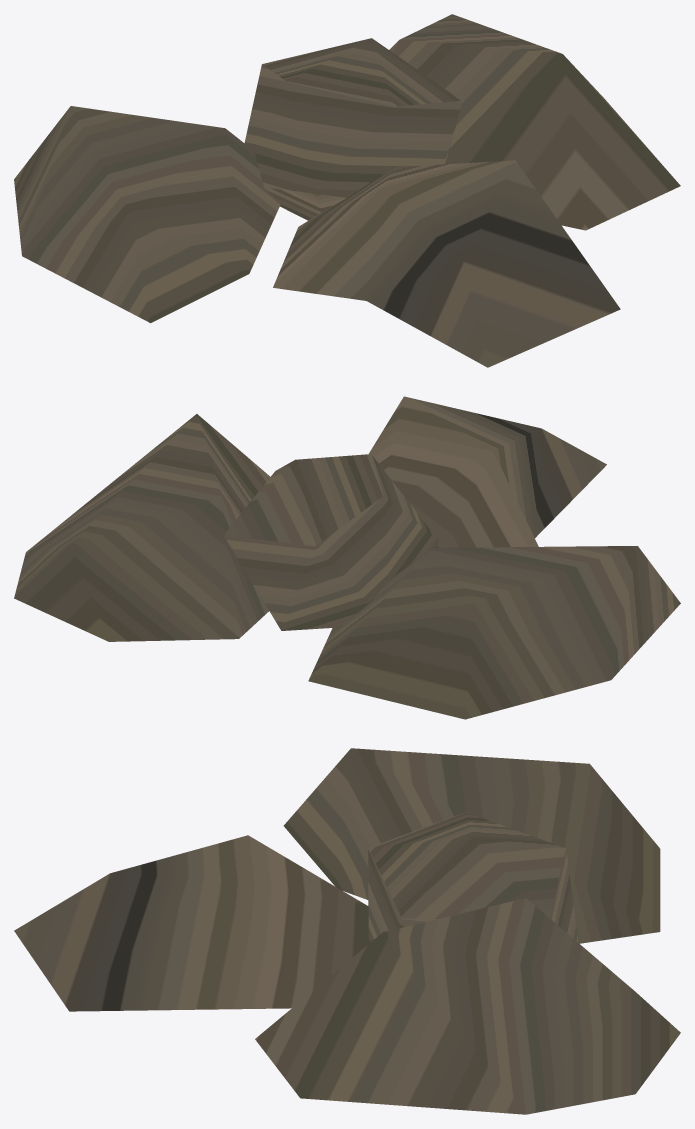
File: rock_gclump2_hdtex.glb
3 renders of one model, top to bottom at view 1: azimuth 30°, elevation 25°; view 2: azimuth 150°, elevation 25°; view 3: azimuth 270°, elevation 25°, orthographic. The views are drawn at different scales.
Parts seen in each view (by area): view 1: Rock_GClump2; view 2: Rock_GClump2; view 3: Rock_GClump2.
Boxes of the visible parts, left/top/right/bottom form: Rock_GClump2: left=14, top=14, right=680, bottom=367; Rock_GClump2: left=14, top=396, right=680, bottom=719; Rock_GClump2: left=14, top=748, right=680, bottom=1114.
Size of the model in its own units: 24.61 by 6.52 by 22.9.
1 material, 1 textured.
